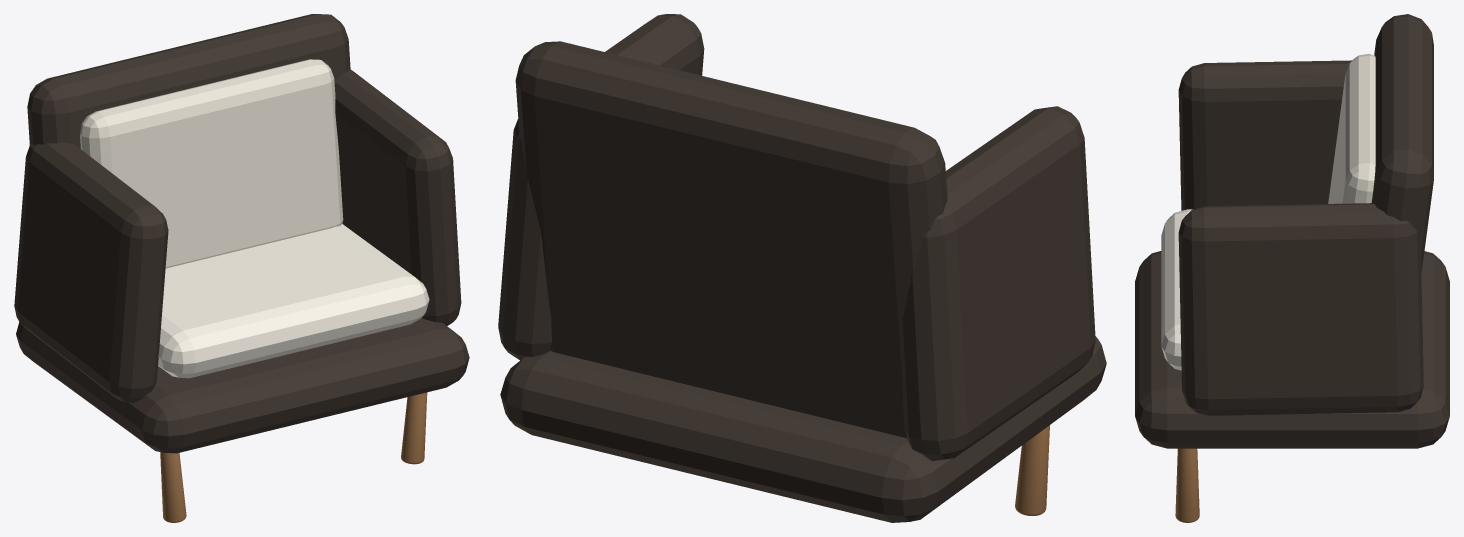
Rendered from la-spezia-able.glb.
3 renders of one model, left to right at view 1: azimuth 30°, elevation 25°; view 2: azimuth 150°, elevation 25°; view 3: azimuth 270°, elevation 25°, orthographic. The views are drawn at different scales.
Parts seen in each view (by area): view 1: La Spezia back cushion, La Spezia left arm, La Spezia seat cushion, La Spezia rattan base, La Spezia right arm, La Spezia rattan back, La Spezia front leg 2, La Spezia front leg 1; view 2: La Spezia rattan back, La Spezia left arm, La Spezia rattan base, La Spezia right arm, La Spezia front leg 1; view 3: La Spezia right arm, La Spezia left arm, La Spezia rattan base, La Spezia rattan back, La Spezia back cushion, La Spezia seat cushion, La Spezia front leg 2.
Part boxes in pixels (bbox=[...]): La Spezia back cushion: bbox=[80, 59, 343, 268]; La Spezia left arm: bbox=[14, 142, 168, 402]; La Spezia seat cushion: bbox=[158, 224, 429, 378]; La Spezia rattan base: bbox=[16, 318, 469, 453]; La Spezia right arm: bbox=[334, 69, 461, 325]; La Spezia rattan back: bbox=[27, 14, 350, 148]; La Spezia front leg 2: bbox=[401, 392, 427, 464]; La Spezia front leg 1: bbox=[160, 452, 186, 522]; La Spezia rattan back: bbox=[515, 41, 947, 438]; La Spezia left arm: bbox=[902, 106, 1095, 461]; La Spezia rattan base: bbox=[500, 336, 1106, 522]; La Spezia right arm: bbox=[498, 14, 704, 360]; La Spezia front leg 1: bbox=[1015, 425, 1049, 515]; La Spezia right arm: bbox=[1178, 203, 1423, 415]; La Spezia left arm: bbox=[1178, 60, 1351, 210]; La Spezia rattan base: bbox=[1135, 251, 1449, 448]; La Spezia rattan back: bbox=[1371, 14, 1433, 273]; La Spezia back cushion: bbox=[1328, 53, 1375, 203]; La Spezia seat cushion: bbox=[1161, 209, 1192, 370]; La Spezia front leg 2: bbox=[1175, 448, 1199, 522].
Size of the model in its own units: 1.42 by 1.42 by 1.08.
